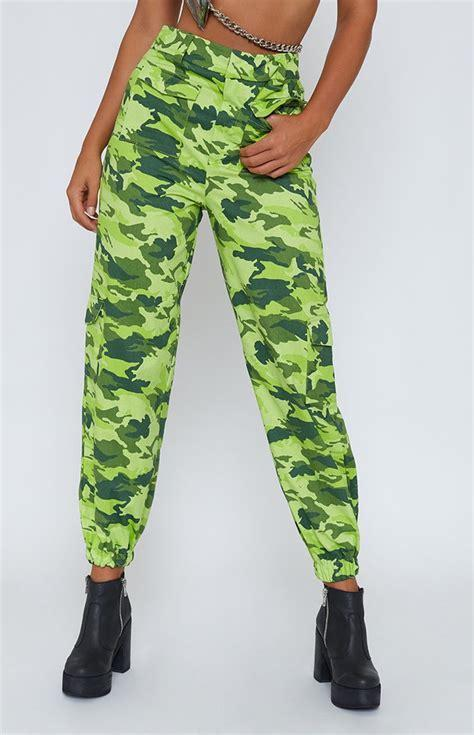pants: (78, 22, 359, 584)
